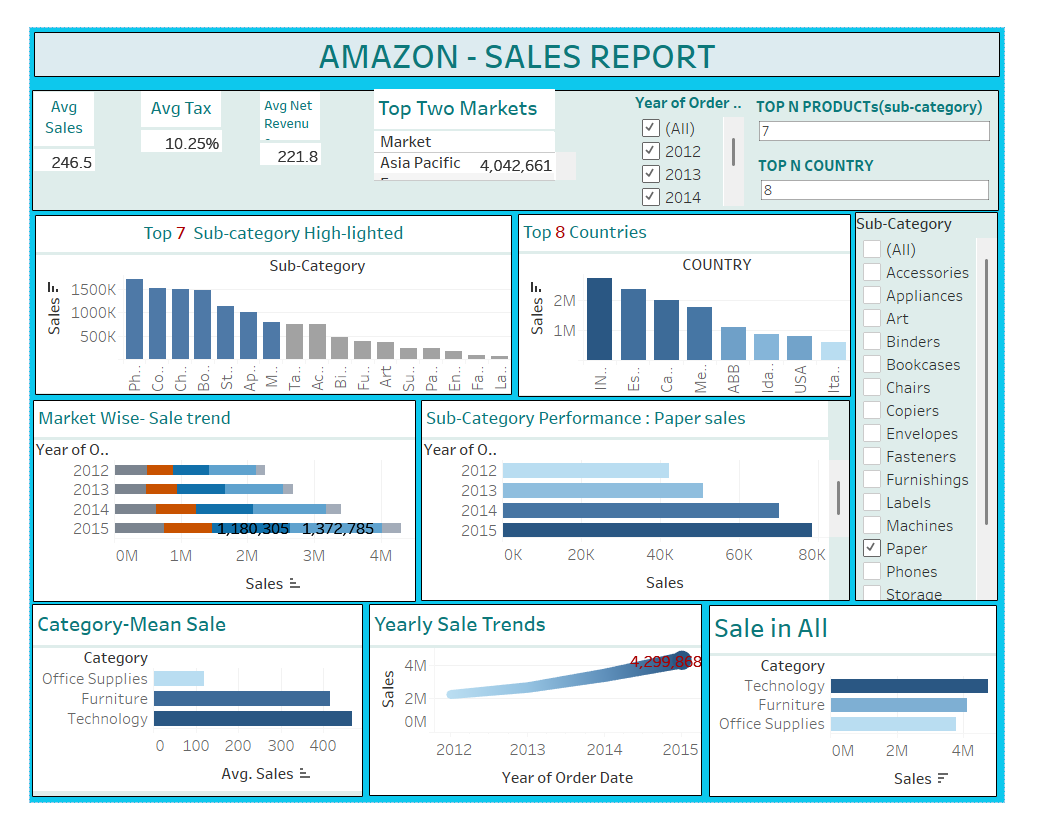

The page's visual inventory and layout, read from the dashboard file:
{"tool":"tableau","page":{"name":"AMAZON SALES REPORT","canvas":[1000,800],"ordinal":0},"visuals":[{"type":"title","box":[13,13,974,53]},{"type":"worksheet","title":"top two markets","mark":"Automatic","rows":["Market"],"box":[357,74,251,120]},{"type":"worksheet","title":"avg tax","mark":"Automatic","box":[124,76,98,117]},{"type":"worksheet","title":"avg sales","mark":"Automatic","box":[17,77,102,118]},{"type":"worksheet","title":"avg net revenue","mark":"Automatic","box":[243,77,104,118]},{"type":"filter","title":"ORDER_DATE","param":"[federated.18hjfsh02q550e1abidsa13boq4e].[yr:Order Date:ok]","box":[618,77,109,114]},{"type":"parameter","param":"[Parameters].[Parameter 2]","box":[739,81,237,48]},{"type":"parameter","param":"[Parameters].[Parameter 1]","box":[741,140,234,48]},{"type":"filter","title":"performance","param":"[federated.18hjfsh02q550e1abidsa13boq4e].[none:Sub-Category:nk]","box":[838,197,143,389]},{"type":"worksheet","title":"top n country","mark":"Automatic","rows":["Sales"],"cols":["Calculation_2136676594651860994"],"box":[501,199,333,183]},{"type":"worksheet","title":"TOP N PRODUCT_NAME","mark":"Automatic","rows":["Sales"],"cols":["Sub-Category"],"box":[18,200,477,180]},{"type":"worksheet","title":"market","mark":"Bar","rows":["Order Date"],"cols":["Sales"],"box":[16,385,383,202]},{"type":"worksheet","title":"performance","mark":"Bar","rows":["Order Date"],"cols":["Sales"],"box":[404,385,429,201]},{"type":"worksheet","title":"category(mean)","mark":"Automatic","rows":["Category"],"cols":["Sales"],"box":[15,589,331,193]},{"type":"worksheet","title":"yearly sale trend","mark":"Automatic","rows":["Sales"],"cols":["Order Date"],"box":[352,589,333,192]},{"type":"worksheet","title":"ORDER_DATE","mark":"Automatic","rows":["Category"],"cols":["Sales"],"box":[692,590,288,192]}]}

Visuals, with their boxes in screenshot pixels (x1, y1, x2, y2), scaled from the page's 1000x800 canvas onto the 1042x836 screenshot:
title: region(14, 14, 1028, 69)
"top two markets" worksheet: region(372, 77, 634, 203)
"avg tax" worksheet: region(129, 79, 231, 202)
"avg sales" worksheet: region(18, 80, 124, 204)
"avg net revenue" worksheet: region(253, 80, 362, 204)
"ORDER_DATE" filter: region(644, 80, 758, 200)
parameter: region(770, 85, 1017, 135)
parameter: region(772, 146, 1016, 196)
"performance" filter: region(873, 206, 1022, 612)
"top n country" worksheet: region(522, 208, 869, 399)
"TOP N PRODUCT_NAME" worksheet: region(19, 209, 516, 397)
"market" worksheet (Bar marks): region(17, 402, 416, 613)
"performance" worksheet (Bar marks): region(421, 402, 868, 612)
"category(mean)" worksheet: region(16, 616, 361, 817)
"yearly sale trend" worksheet: region(367, 616, 714, 816)
"ORDER_DATE" worksheet: region(721, 617, 1021, 817)
